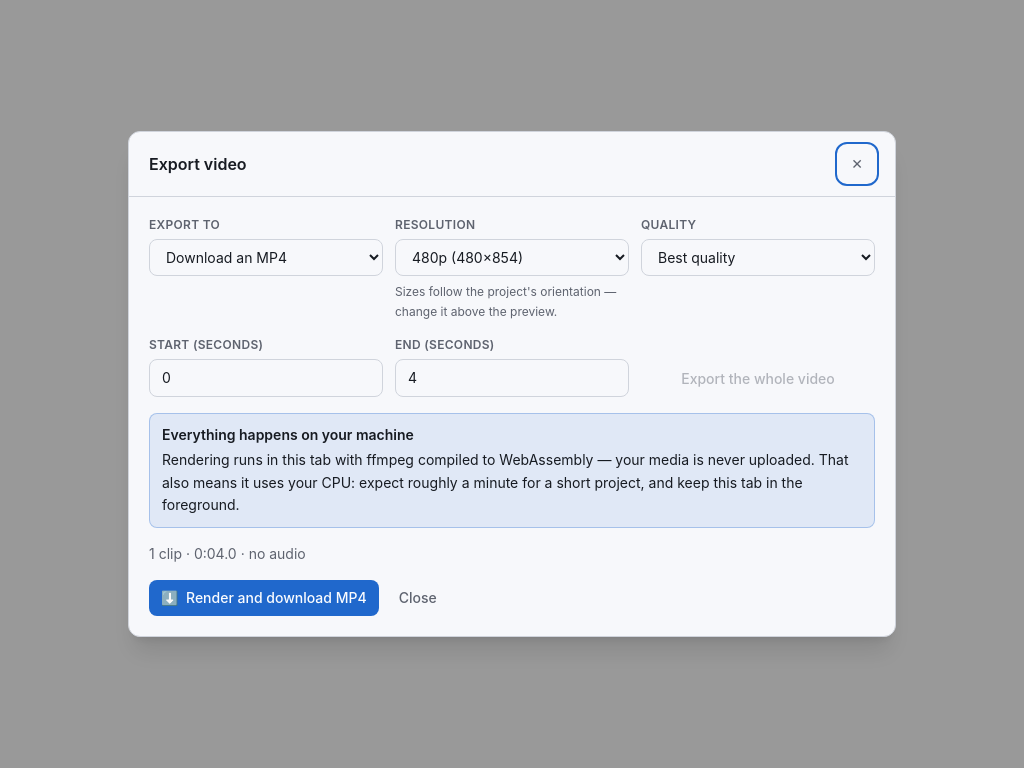
Scenario: choosing a start and an end › says how long the export runs, and what it is a part of
The width and height of the screenshot is (1024, 768).
Expected: the text "1 clip · 0:04.0 · no audio" is shown, left=149, top=545, right=306, bottom=562
Replace the text in the number field labelled "End (seconds)" with "3": (512, 378) left=395, top=359, right=629, bottom=397
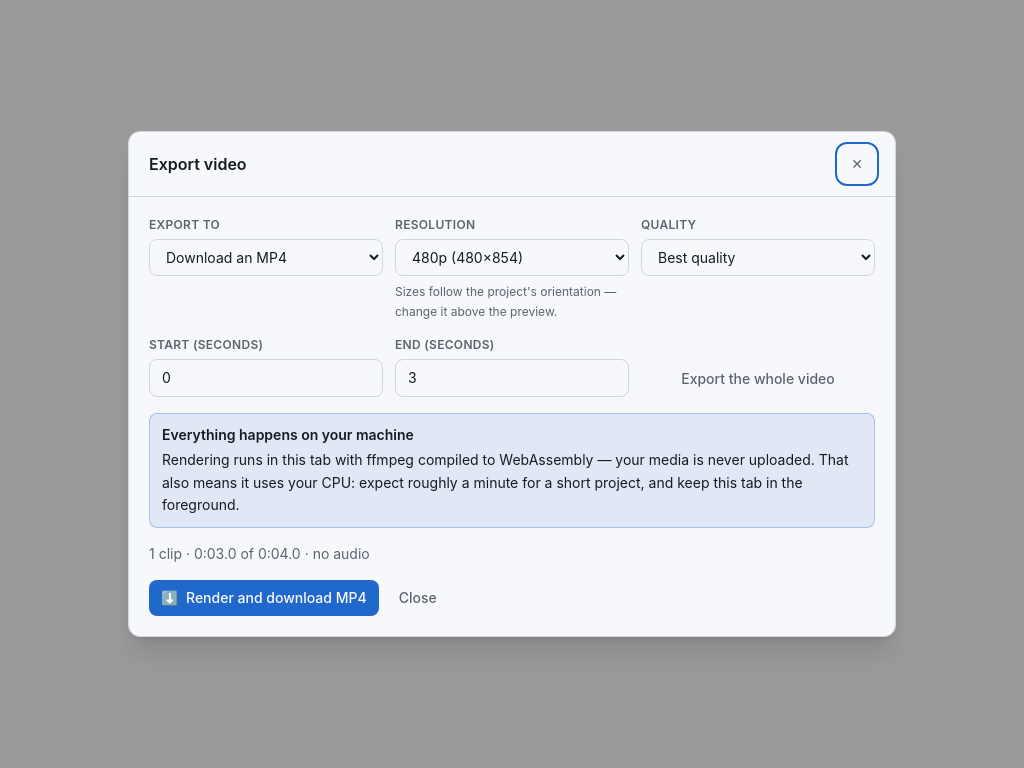
Result: the text "1 clip · 0:03.0 of 0:04.0 · no audio" is shown at left=149, top=545, right=370, bottom=562
